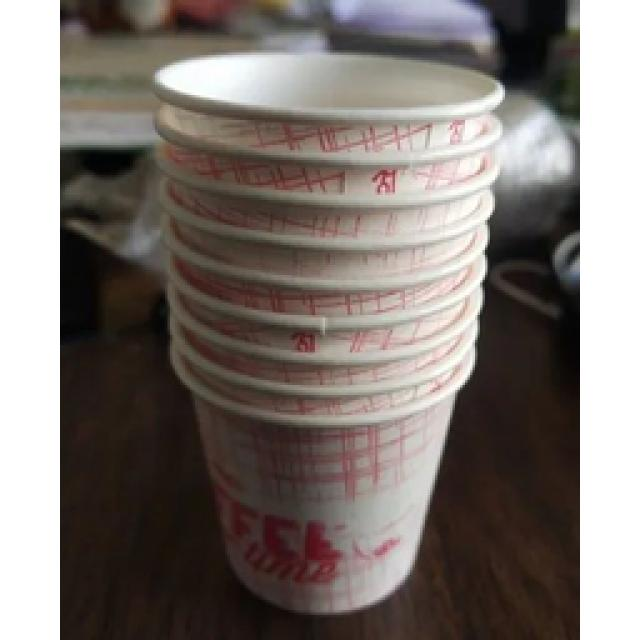paper_cups: (166, 268, 486, 613)
